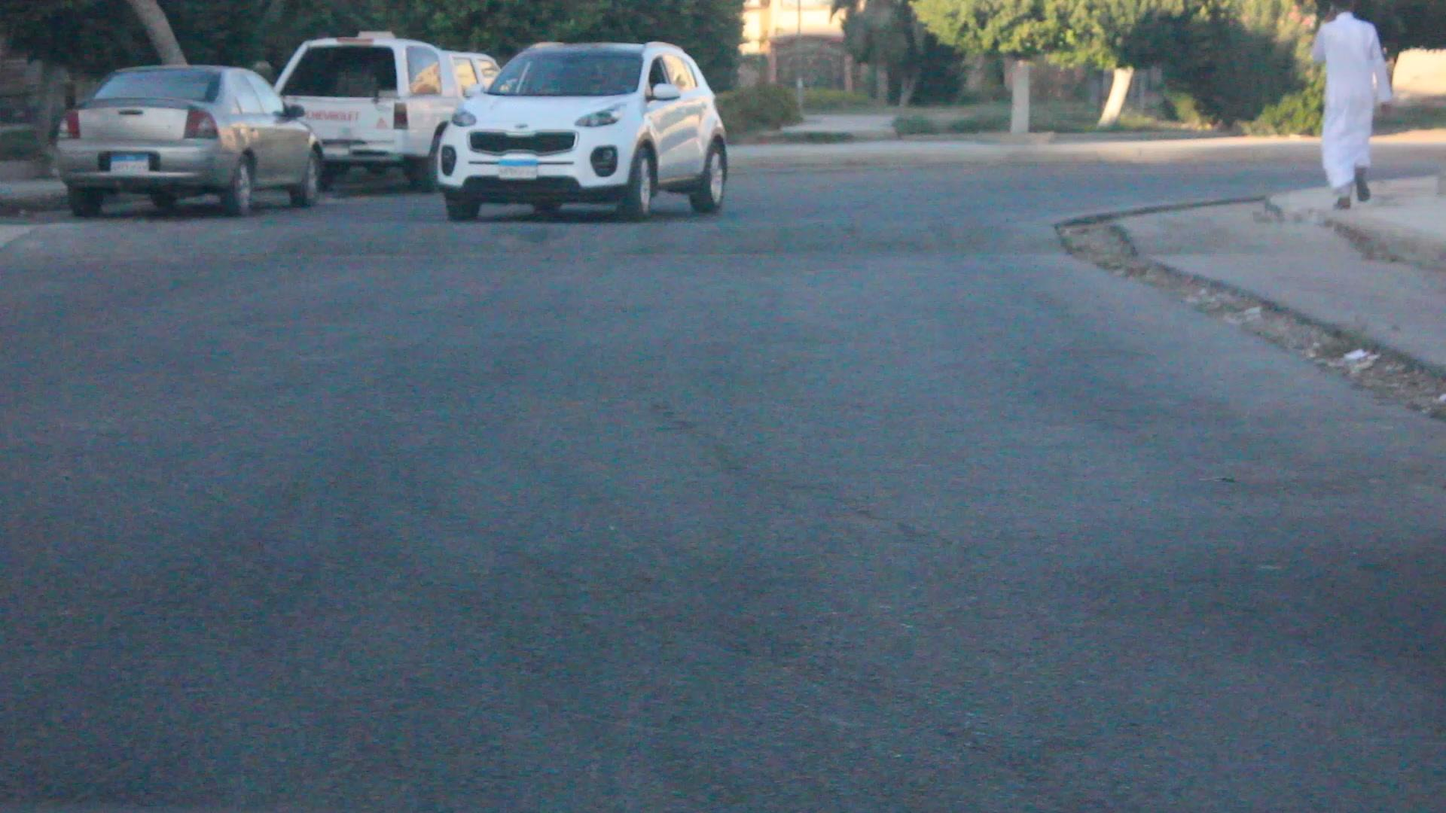Bump: (11, 205, 1139, 254)
